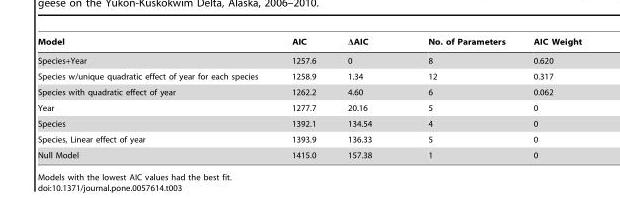table: (37, 37, 581, 159)
table column: (37, 37, 274, 159), (399, 37, 518, 159), (331, 37, 399, 159), (518, 37, 581, 159), (274, 37, 331, 159)
table column header: (37, 37, 581, 49)
table row: (37, 49, 581, 68), (37, 68, 581, 84), (37, 99, 581, 115), (37, 115, 581, 131), (37, 131, 581, 147), (37, 84, 581, 99), (37, 37, 581, 49), (37, 147, 581, 159)
